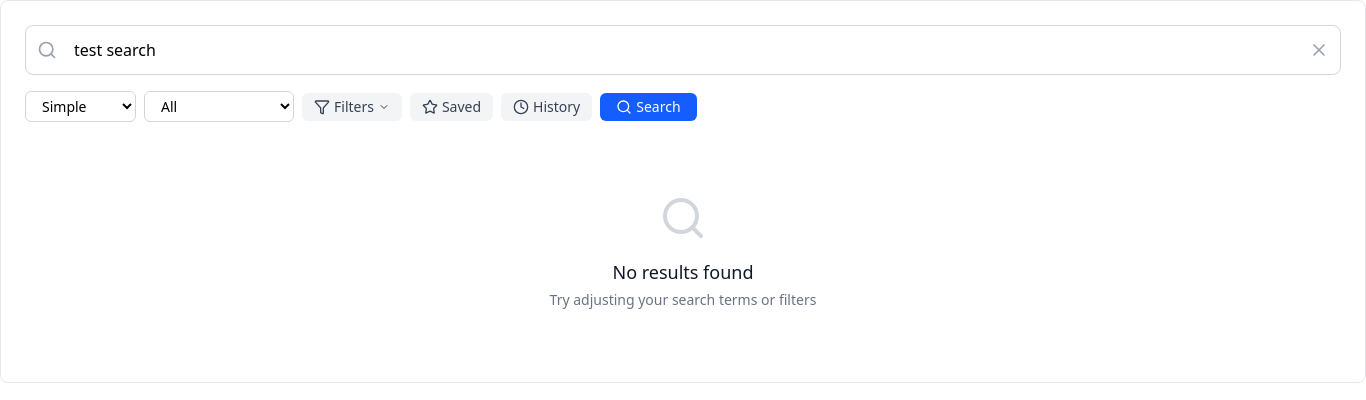
Test: SearchInterface › Search Input › clears input when clear button is clicked
The image size is (1366, 400).
Click the button named "clear search" at (1319, 50), box [1309,40,1329,60]
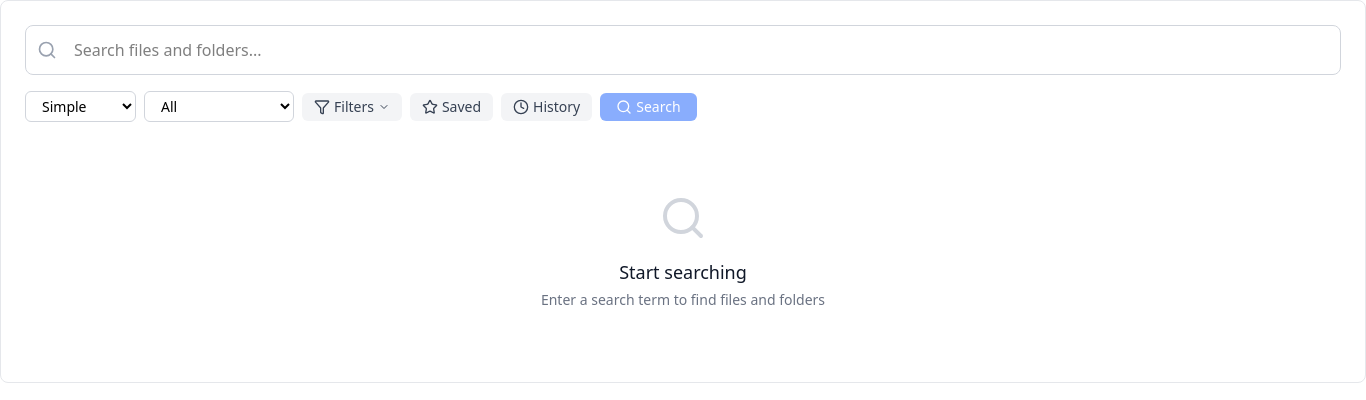
Check: the field showing "test search" is empty, box [25,25,1341,75]
